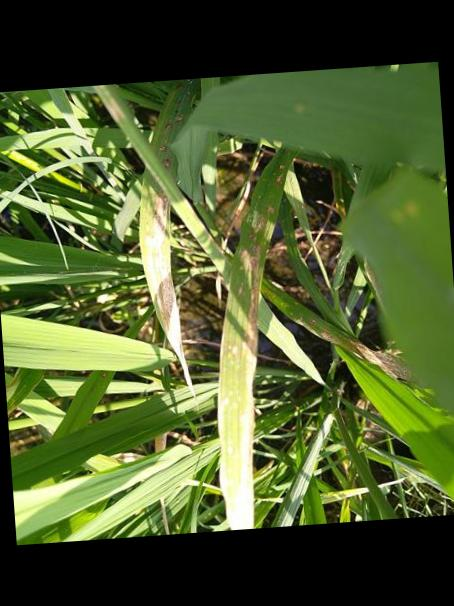Leaf Streak: (217, 148, 283, 530), (260, 276, 417, 383), (139, 166, 193, 395), (5, 367, 45, 416), (155, 105, 184, 167)
